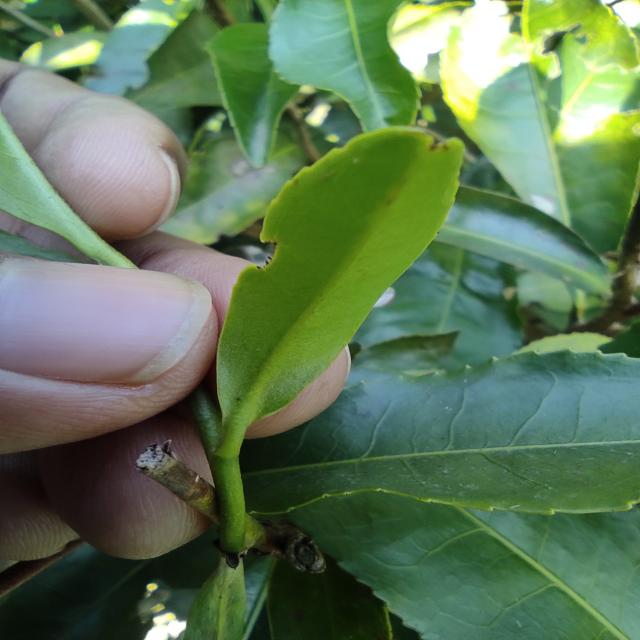Category C(4-7 days): (212, 114, 478, 473)
